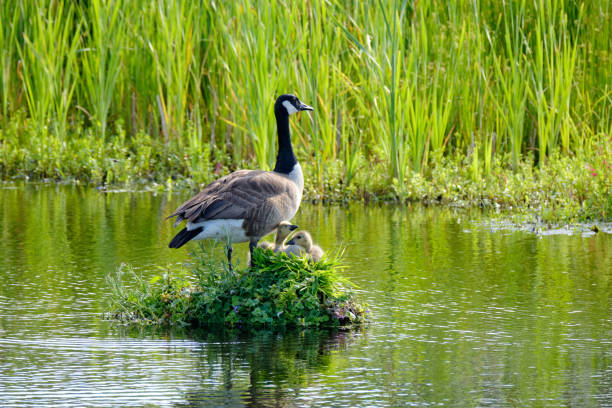goose: (165, 93, 316, 279)
